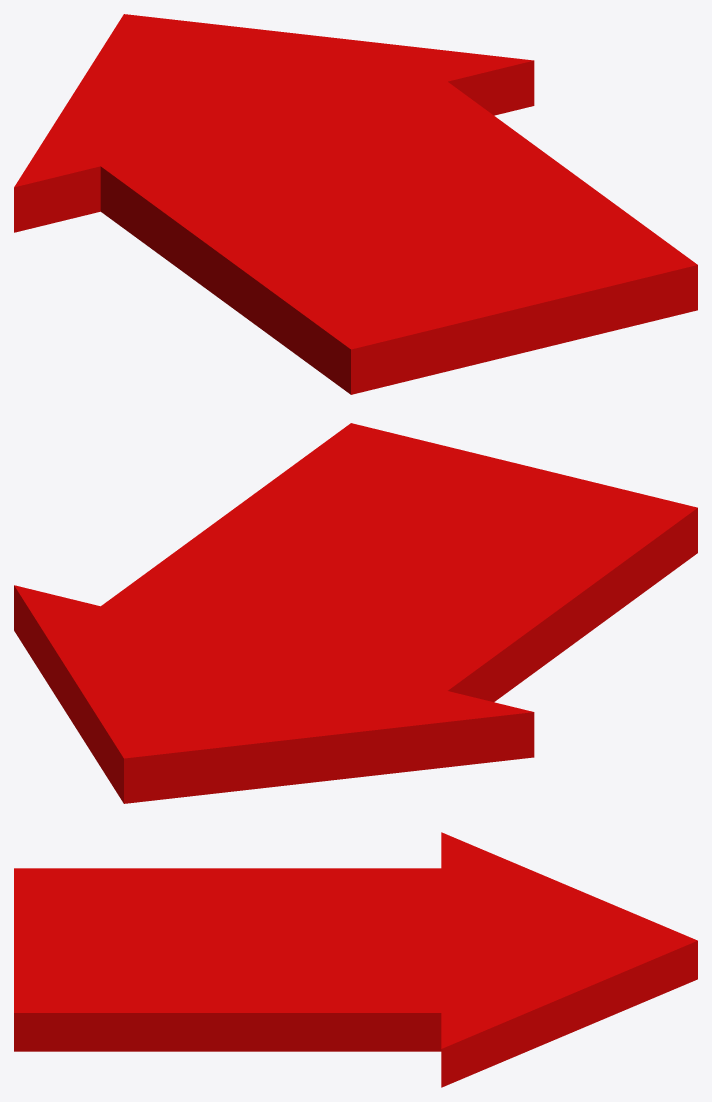
File: Arrowhead_final.fbx
3 views of the same model, one above another, from view 1: azimuth 30°, elevation 25°; view 2: azimuth 150°, elevation 25°; view 3: azimuth 270°, elevation 25° (orthographic). The views are drawn at different scales.
Visible parts, largest first — view 1: Arrowhead_Mesh; view 2: Arrowhead_Mesh; view 3: Arrowhead_Mesh.
Part boxes in pixels (x1,y1,x2,y2): Arrowhead_Mesh: (14, 14, 697, 394); Arrowhead_Mesh: (14, 423, 697, 803); Arrowhead_Mesh: (14, 832, 697, 1087).
Size of the model in its own units: 60 by 5 by 80.
